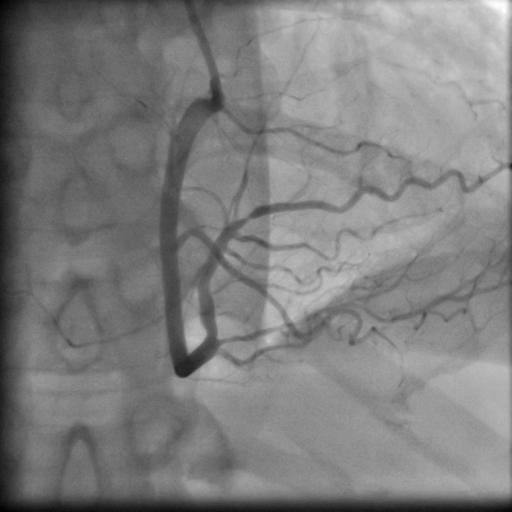Stenosis: (232, 206, 261, 226)
